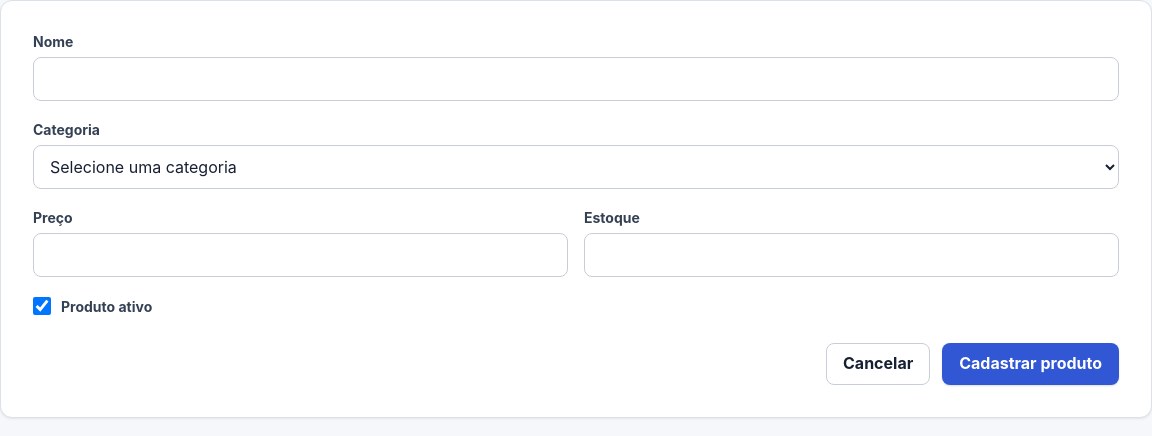
Scenario: ProductForm › prevents simultaneous submissions
This screenshot has width=1152, height=436.
Type "Headset Pro" into the field labelled "Nome".
click(576, 79); type("Headset Pro")  # box [33,57,1119,101]
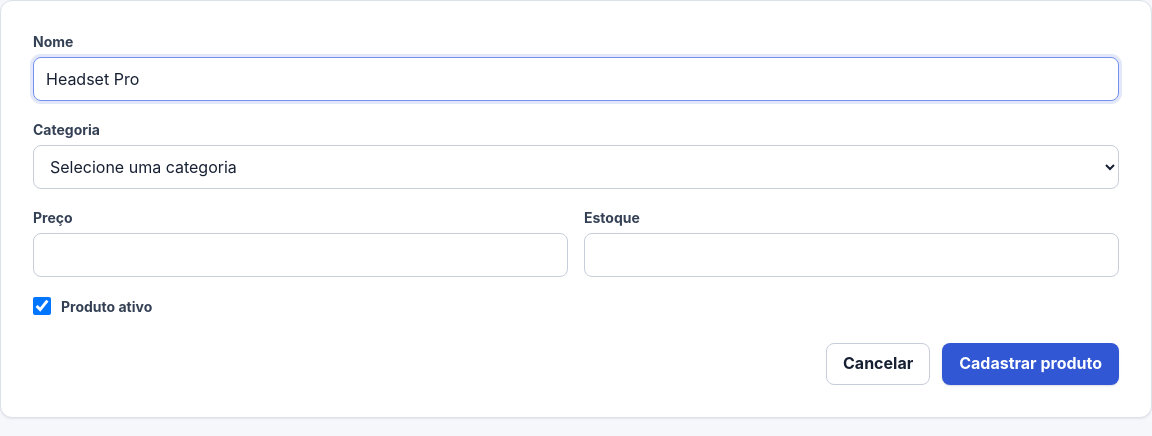
Select "Áudio" in the dropdown labelled "Categoria" at (576, 167), box [33,145,1119,189]
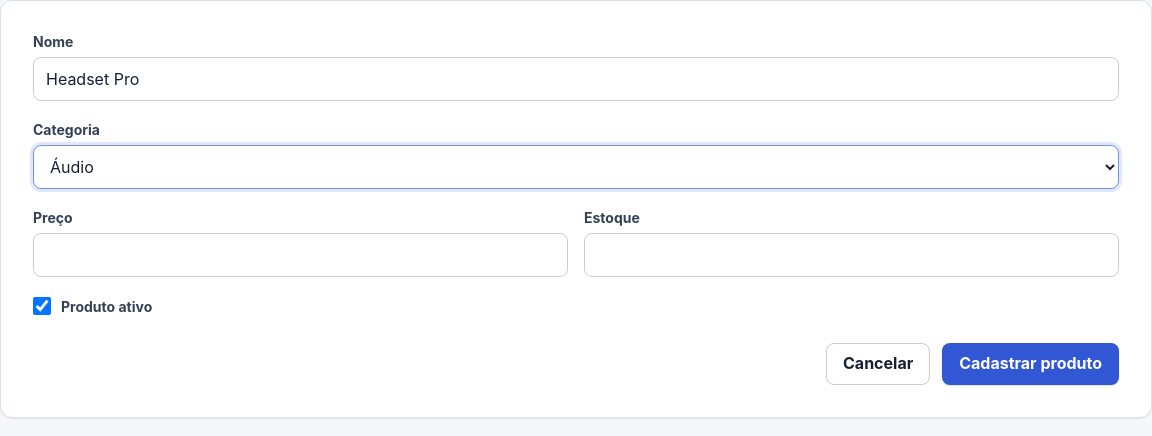
Type "299.90" into the number field labelled "Preço".
click(300, 255); type("299.90")  # box [33,233,568,277]
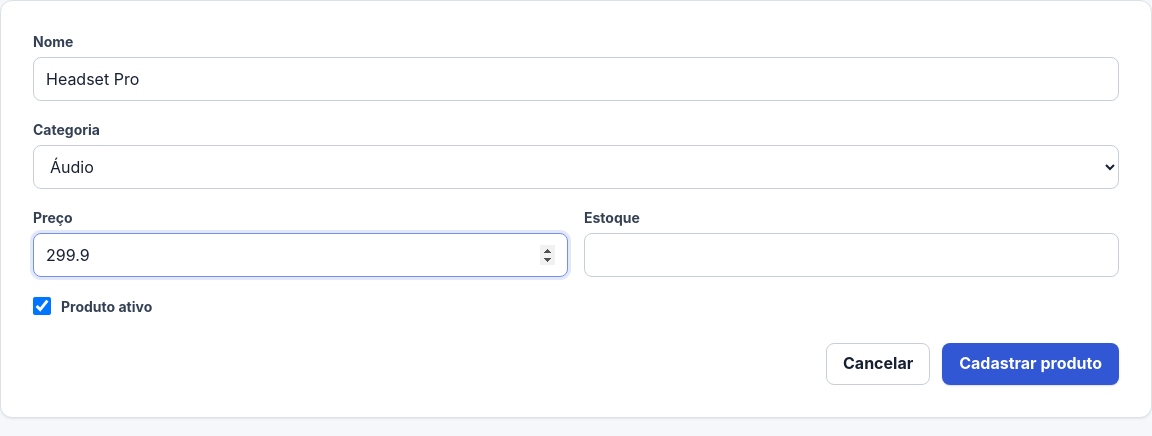
Type "8" into the number field labelled "Estoque".
click(852, 255); type("8")  # box [584,233,1119,277]
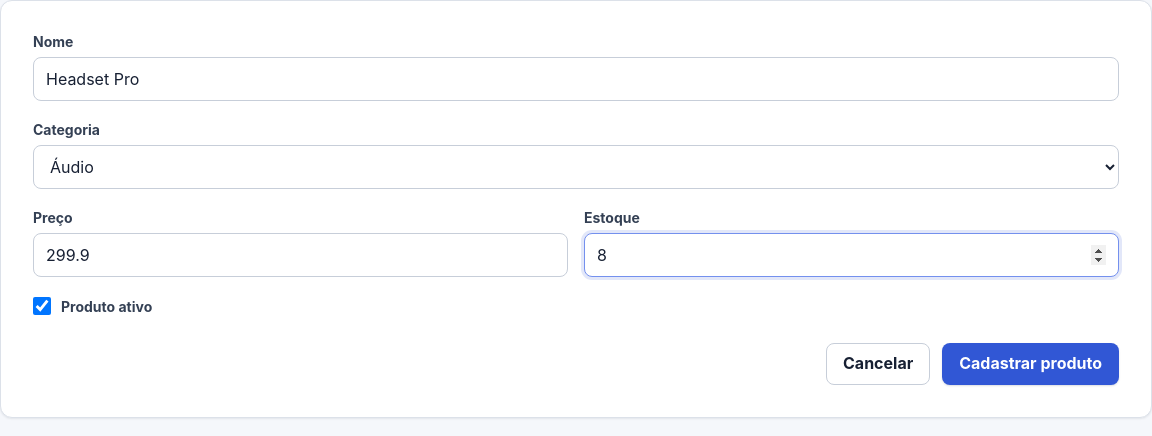
Click the button "Cadastrar produto".
click(1031, 364)  # box [942,343,1119,385]
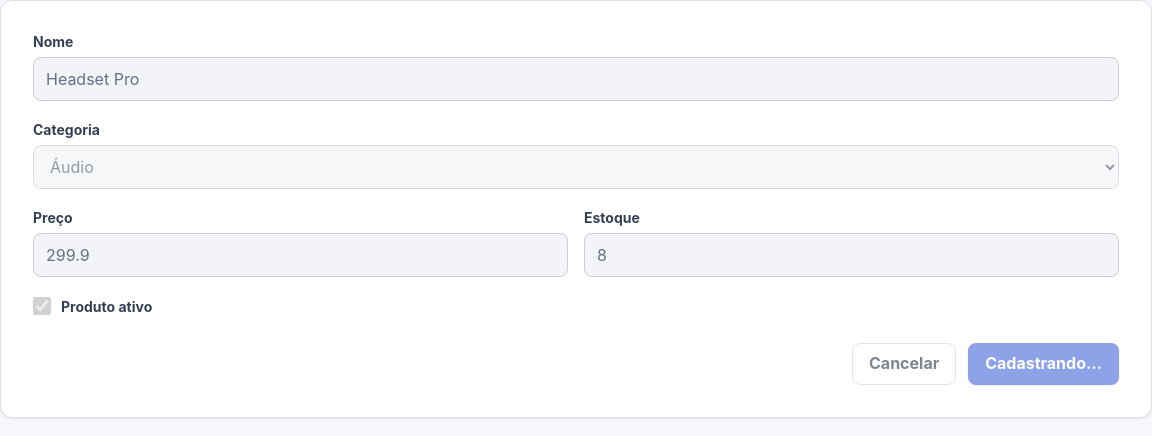
Click the button "Cadastrando…".
click(1044, 364)  # box [968,343,1119,385]
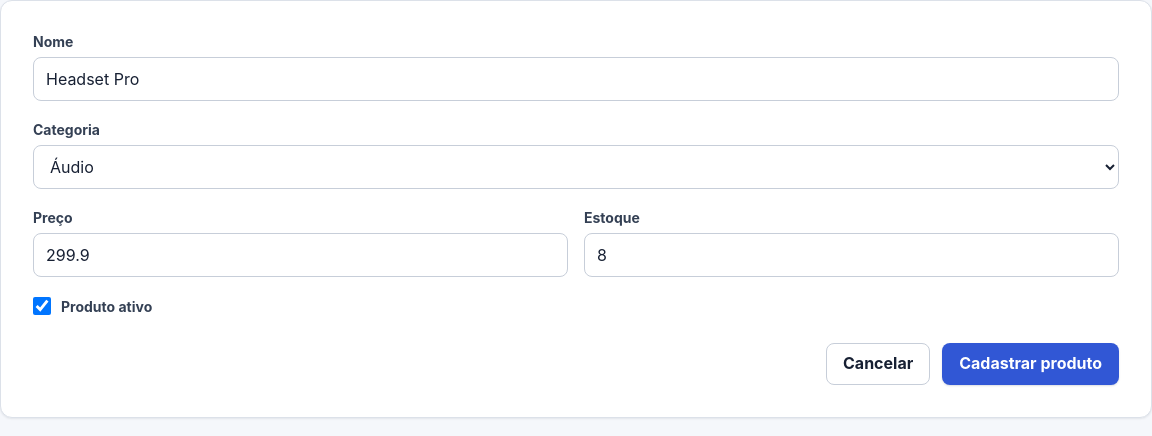
Now the button "Cadastrar produto" is enabled, box [942,343,1119,385]
